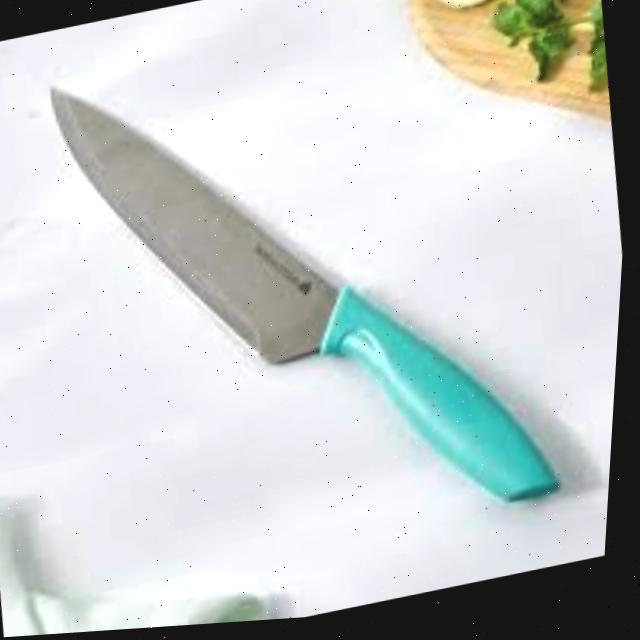knife: (25, 0, 590, 594)
